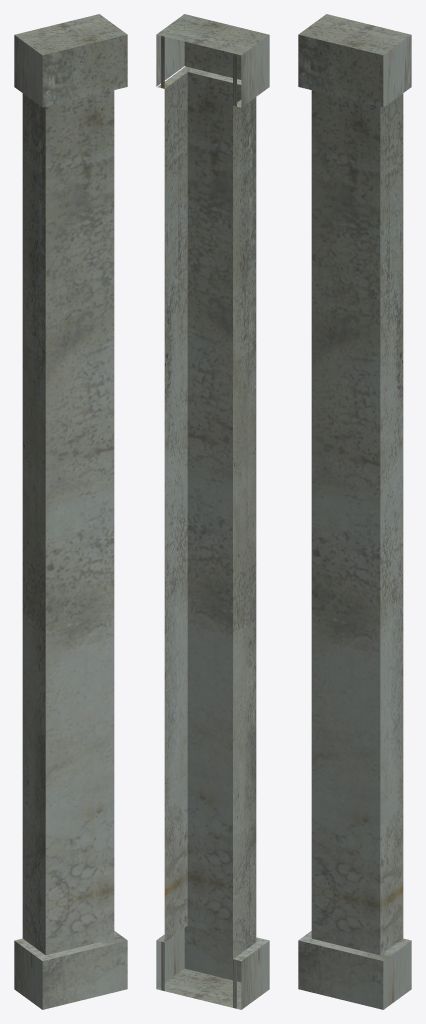
3 renders of one model, left to right at view 1: azimuth 30°, elevation 25°; view 2: azimuth 150°, elevation 25°; view 3: azimuth 330°, elevation 25°, orthographic.
Parts seen in each view (by area): view 1: Cube (6); view 2: Cube (6); view 3: Cube (6).
Boxes of the visible parts, box(x1,y1,x2,y2) form: Cube (6): box(14, 14, 127, 1009); Cube (6): box(156, 14, 269, 1009); Cube (6): box(298, 14, 411, 1009).
Bounding box in the file's own units: 52.96 × 567 × 30.37.
